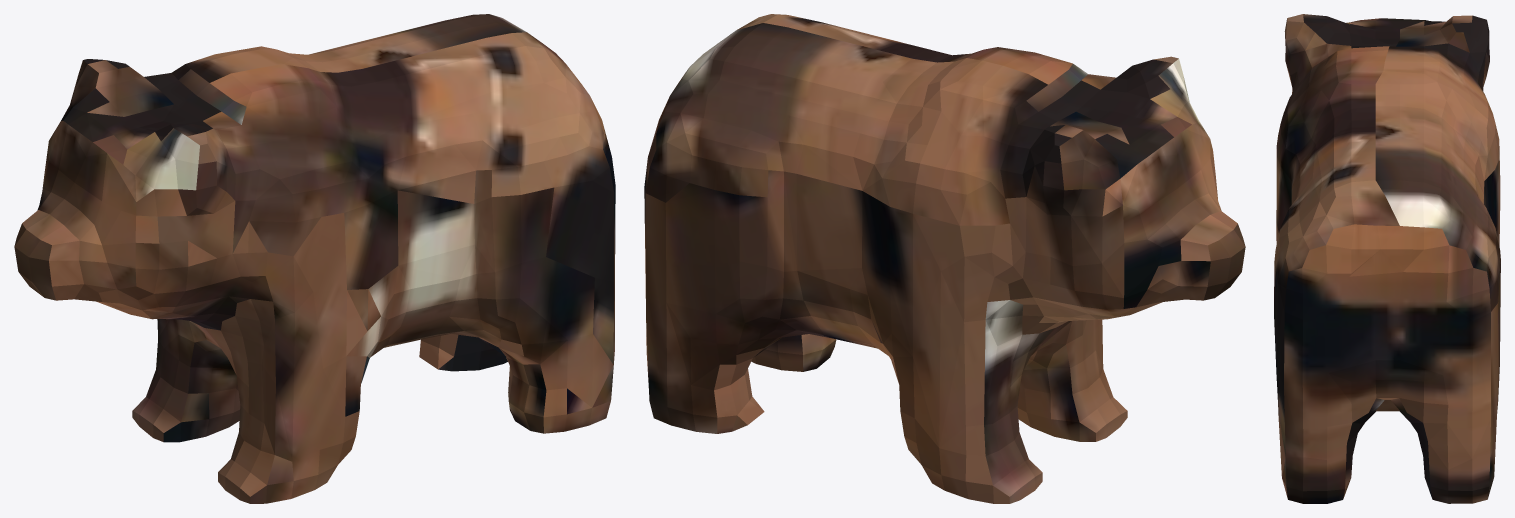
Rendered from bear.glb.
The picture shows the model from 3 angles, left to right: view 1: azimuth 30°, elevation 25°; view 2: azimuth 150°, elevation 25°; view 3: azimuth 270°, elevation 25°; orthographic projection. The views are drawn at different scales.
Visible parts, largest first — view 1: material.001; view 2: material.001; view 3: material.001.
Part boxes in pixels (left/top/right/bottom): material.001: left=14, top=14, right=615, bottom=503; material.001: left=644, top=14, right=1245, bottom=503; material.001: left=1274, top=14, right=1500, bottom=503.
Size of the model in its own units: 0.9469 by 0.6484 by 0.4048.
1 material, 1 textured.
